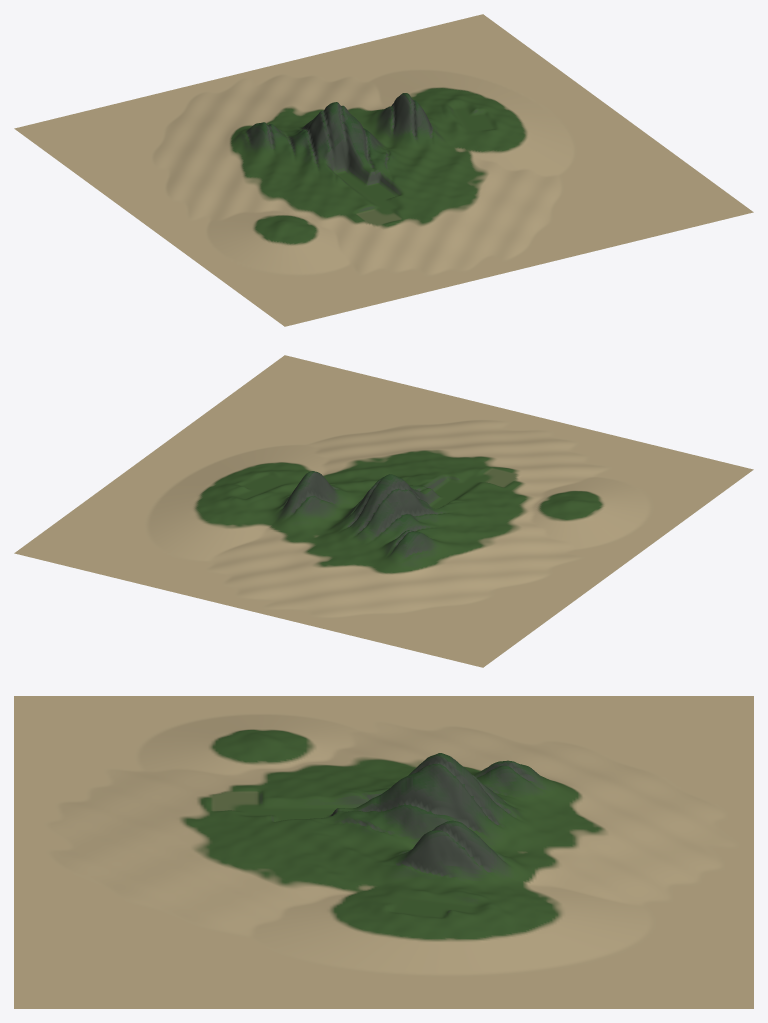
File: palm-bay-terrain.glb
The picture shows the model from 3 angles, top to bottom: view 1: azimuth 30°, elevation 25°; view 2: azimuth 150°, elevation 25°; view 3: azimuth 270°, elevation 25°; orthographic projection. The views are drawn at different scales.
Parts seen in each view (by area): view 1: Palm Bay erosion and coastal shelves; view 2: Palm Bay erosion and coastal shelves; view 3: Palm Bay erosion and coastal shelves.
Boxes of the visible parts, bbox=[...] form: Palm Bay erosion and coastal shelves: bbox=[14, 14, 753, 326]; Palm Bay erosion and coastal shelves: bbox=[14, 355, 753, 667]; Palm Bay erosion and coastal shelves: bbox=[14, 696, 753, 1008].
Size of the model in its own units: 2800 by 336 by 2800.
